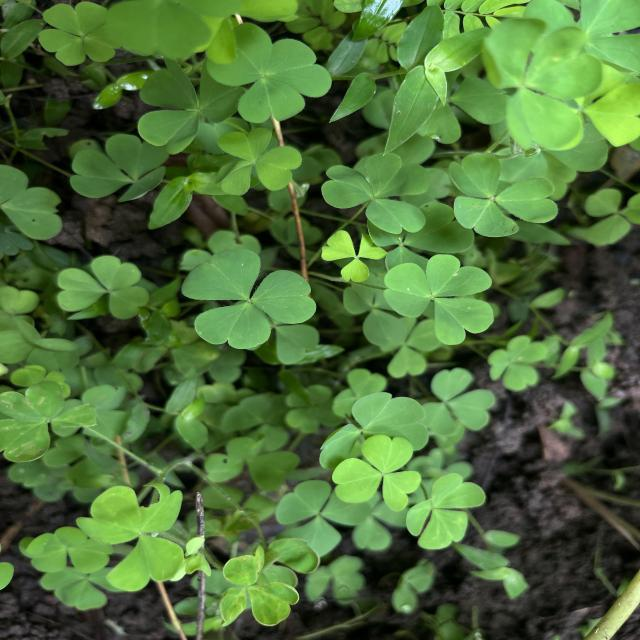Oxalis corniculata: (179, 246, 318, 352), (74, 482, 194, 593), (208, 22, 336, 126), (382, 253, 497, 347), (446, 153, 560, 240), (320, 149, 432, 236), (134, 66, 241, 157), (0, 379, 101, 465), (68, 138, 170, 210), (218, 543, 302, 630), (332, 432, 422, 512), (404, 472, 488, 552), (215, 127, 306, 197), (56, 254, 148, 321), (36, 2, 124, 68), (424, 367, 496, 437), (322, 229, 388, 286), (489, 334, 552, 392)
